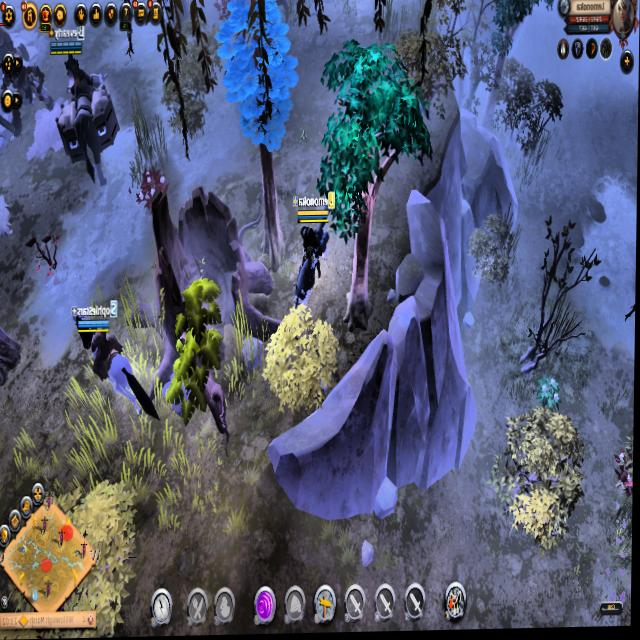fiber tier 3: (538, 375, 565, 416)
fiber tier 5: (136, 164, 170, 216)
wood tier 3: (334, 37, 434, 238)
